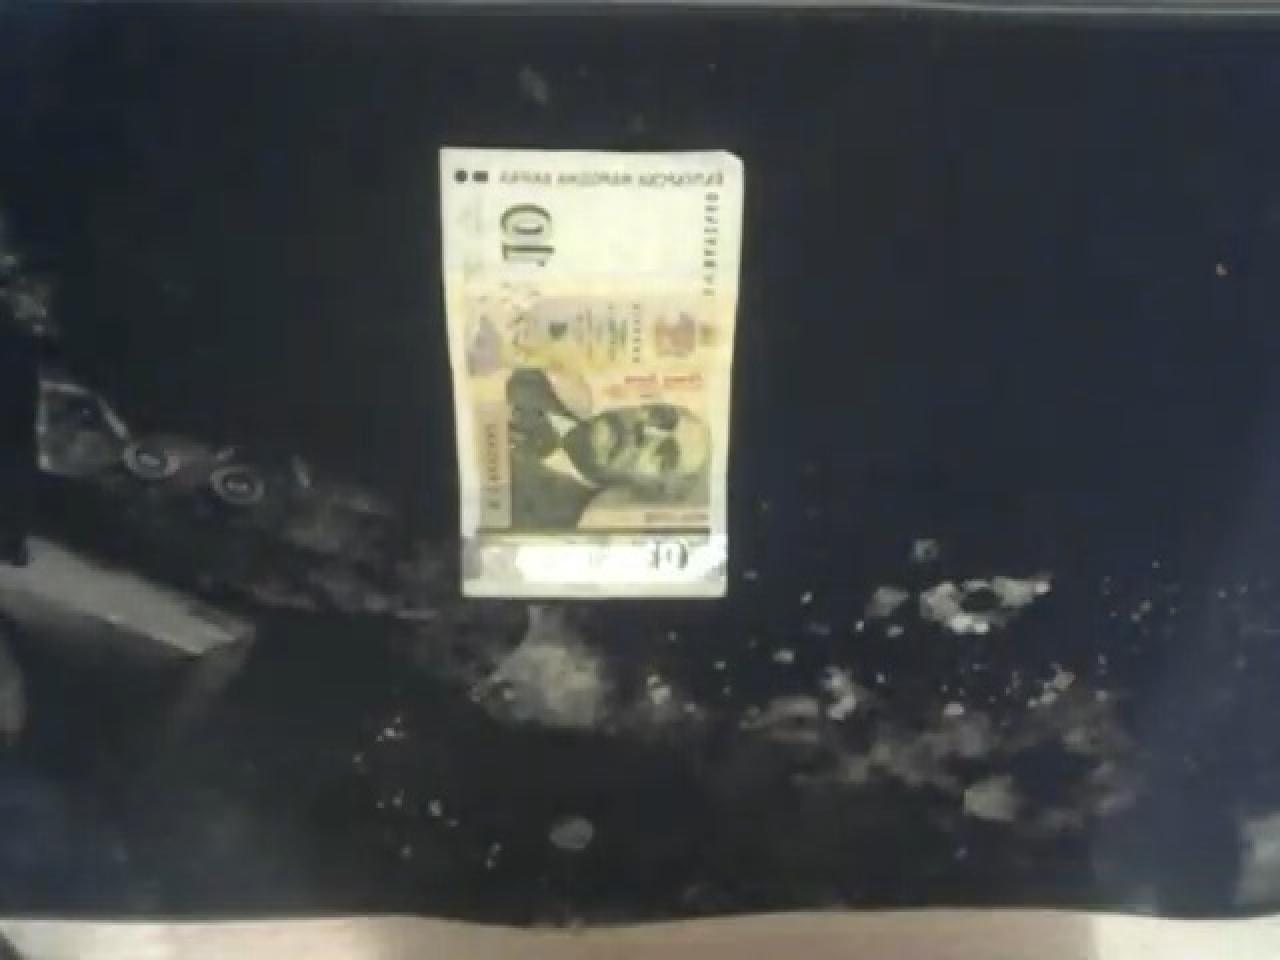10leva: (466, 178, 585, 291)
